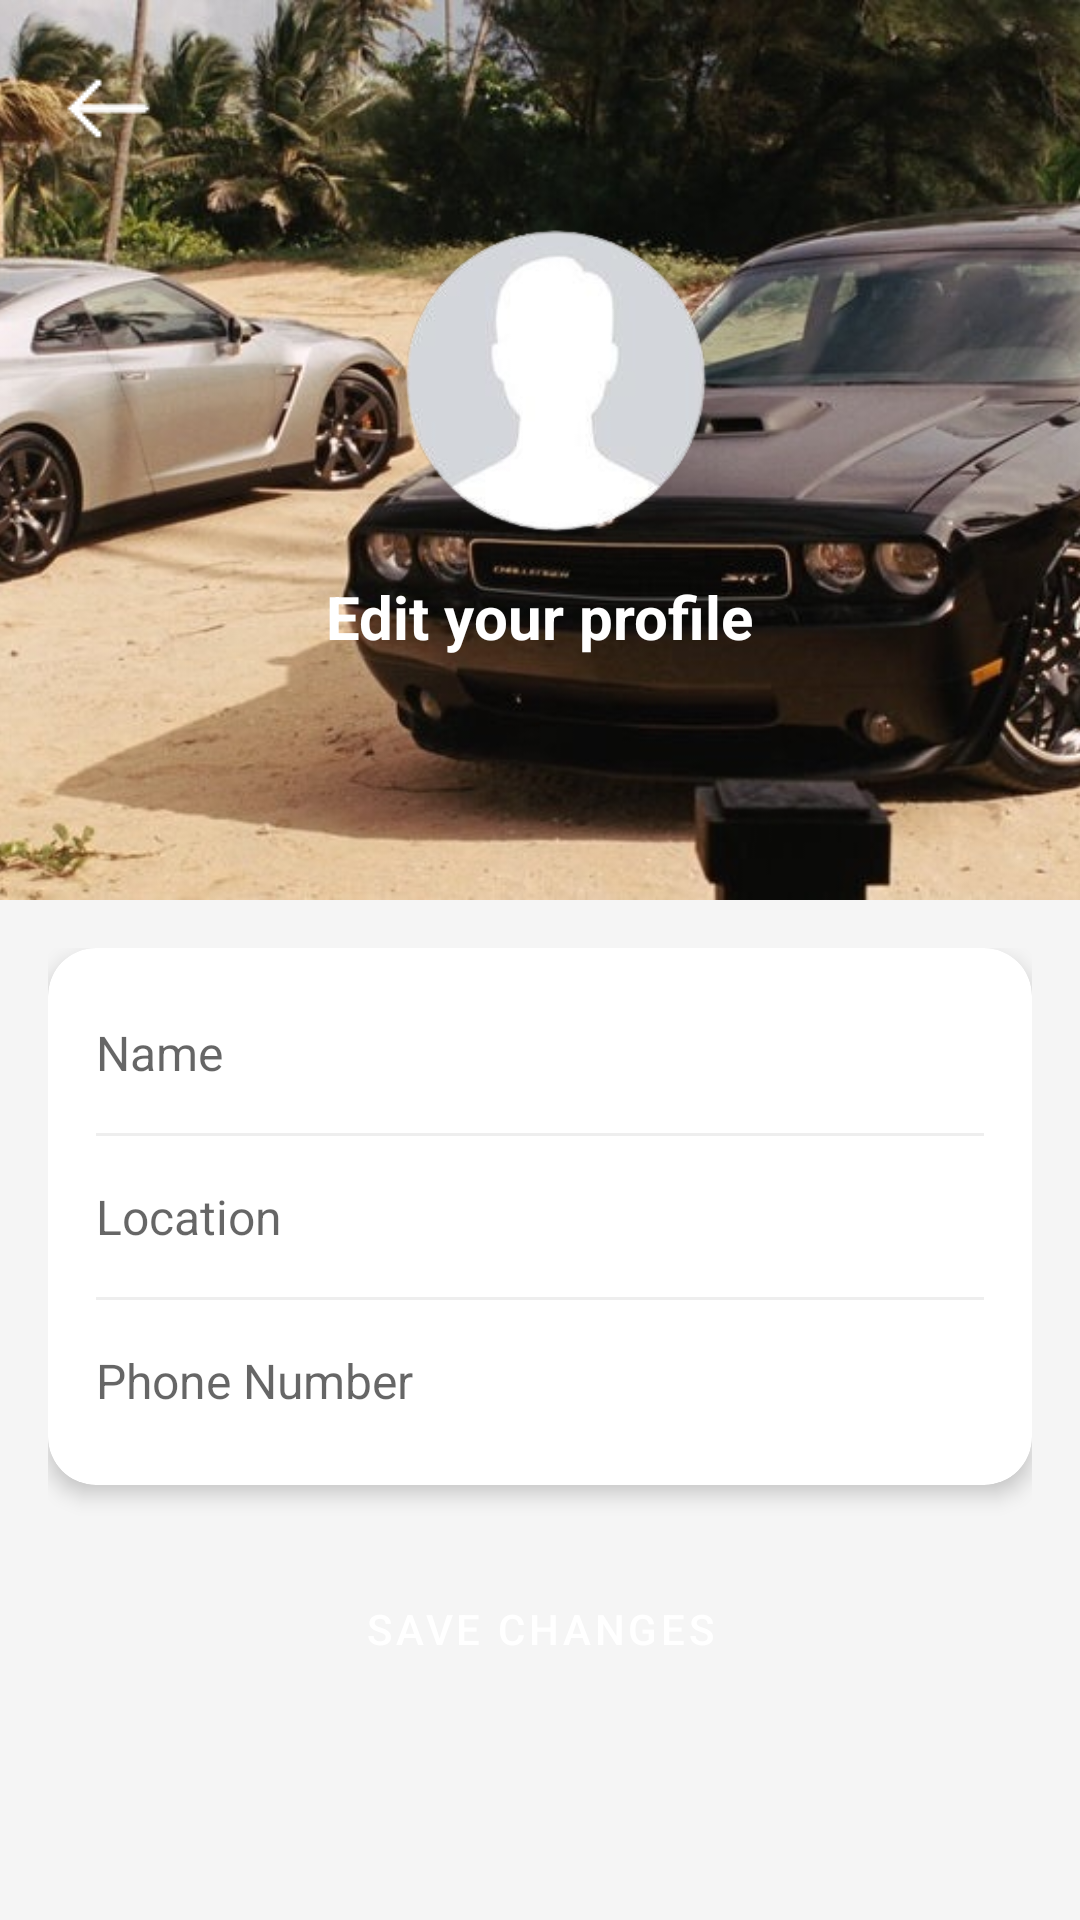

Icons on this 1080*1920 Android screen, each with the point to tap as (x=x, y=y):
Назад: (x=108, y=108)
